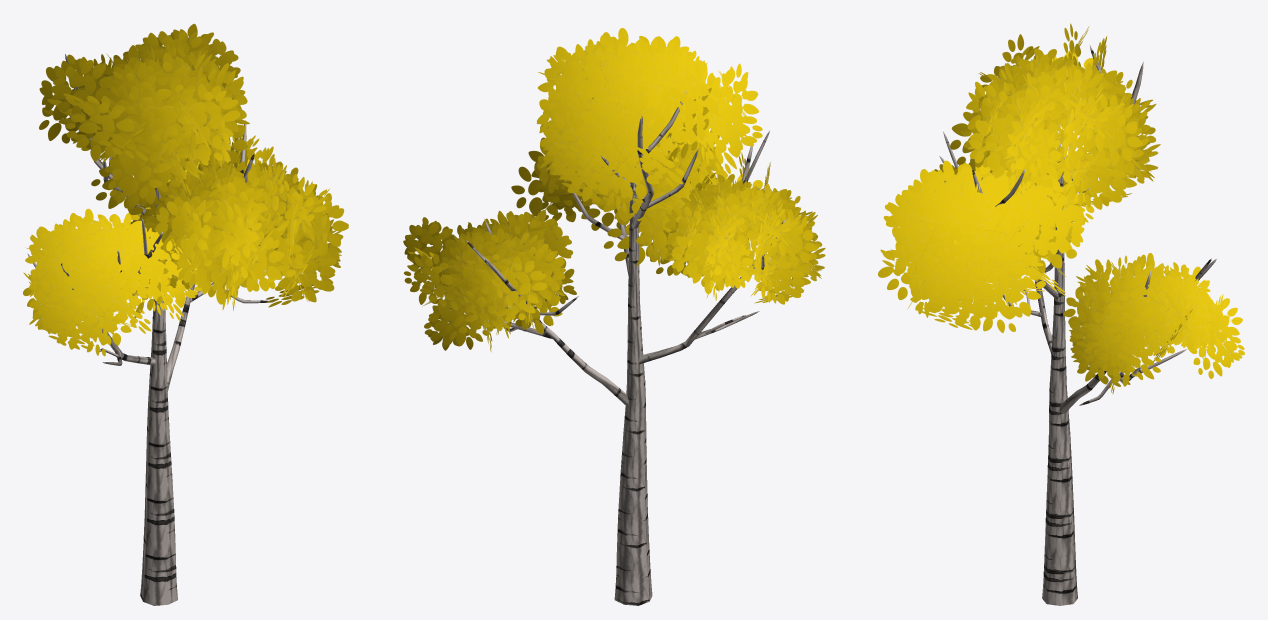
File: BirchTree_5.glb
3 renders of one model, left to right at view 1: azimuth 30°, elevation 25°; view 2: azimuth 150°, elevation 25°; view 3: azimuth 270°, elevation 25°, orthographic. The views are drawn at different scales.
Parts seen in each view (by area): view 1: BirchTree_5; view 2: BirchTree_5; view 3: BirchTree_5.
Part boxes in pixels (box(x1,y1,x2,y2)): BirchTree_5: box(23, 23, 348, 605); BirchTree_5: box(403, 28, 825, 605); BirchTree_5: box(878, 23, 1244, 605).
Size of the model in its own units: 3.58 by 5.52 by 3.51.
Materials: 2 (2 with a texture image).
